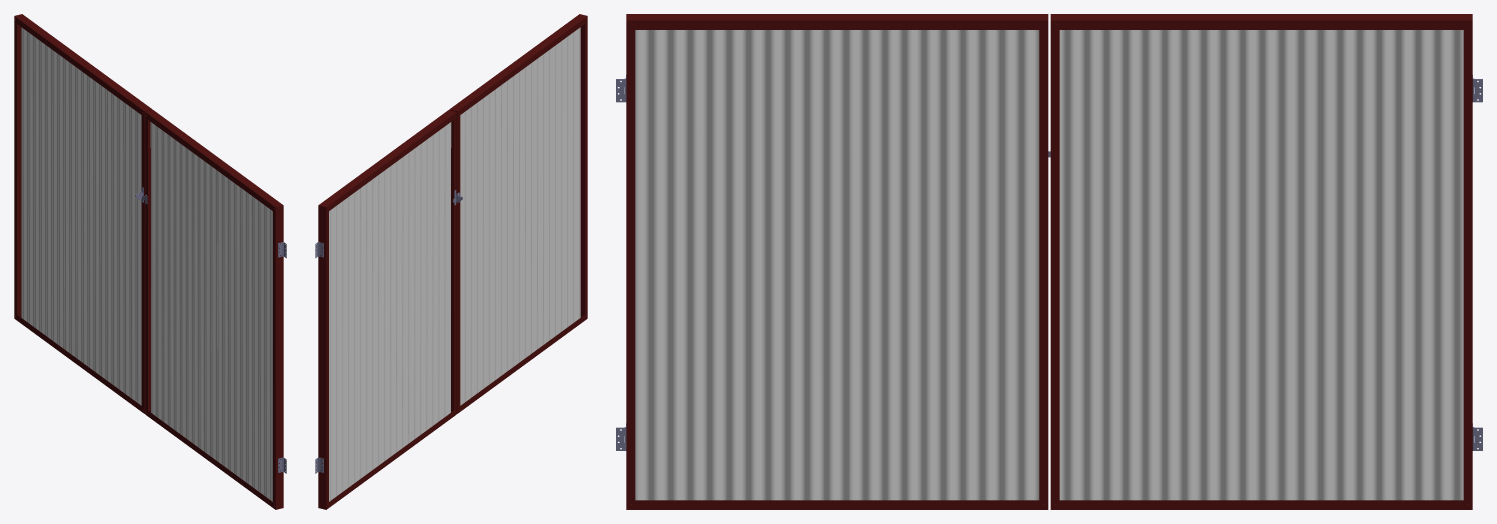
The model's file is GCDG21.glb.
The picture shows the model from 3 angles, left to right: view 1: azimuth 30°, elevation 25°; view 2: azimuth 150°, elevation 25°; view 3: azimuth 270°, elevation 25°; orthographic projection. The views are drawn at different scales.
Visible parts, largest first — view 1: GC - GOOD NEIGHBOUR CGI-16 DOUBLE DRIVEWAY GATE - VERTICAL -; view 2: GC - GOOD NEIGHBOUR CGI-16 DOUBLE DRIVEWAY GATE - VERTICAL -; view 3: GC - GOOD NEIGHBOUR CGI-16 DOUBLE DRIVEWAY GATE - VERTICAL -.
Part boxes in pixels (x1=…): GC - GOOD NEIGHBOUR CGI-16 DOUBLE DRIVEWAY GATE - VERTICAL -: x1=14, y1=14, x2=286, y2=509; GC - GOOD NEIGHBOUR CGI-16 DOUBLE DRIVEWAY GATE - VERTICAL -: x1=315, y1=14, x2=587, y2=509; GC - GOOD NEIGHBOUR CGI-16 DOUBLE DRIVEWAY GATE - VERTICAL -: x1=616, y1=14, x2=1482, y2=509.
Size of the model in its own units: 0.1206 by 2.11 by 3.38.
